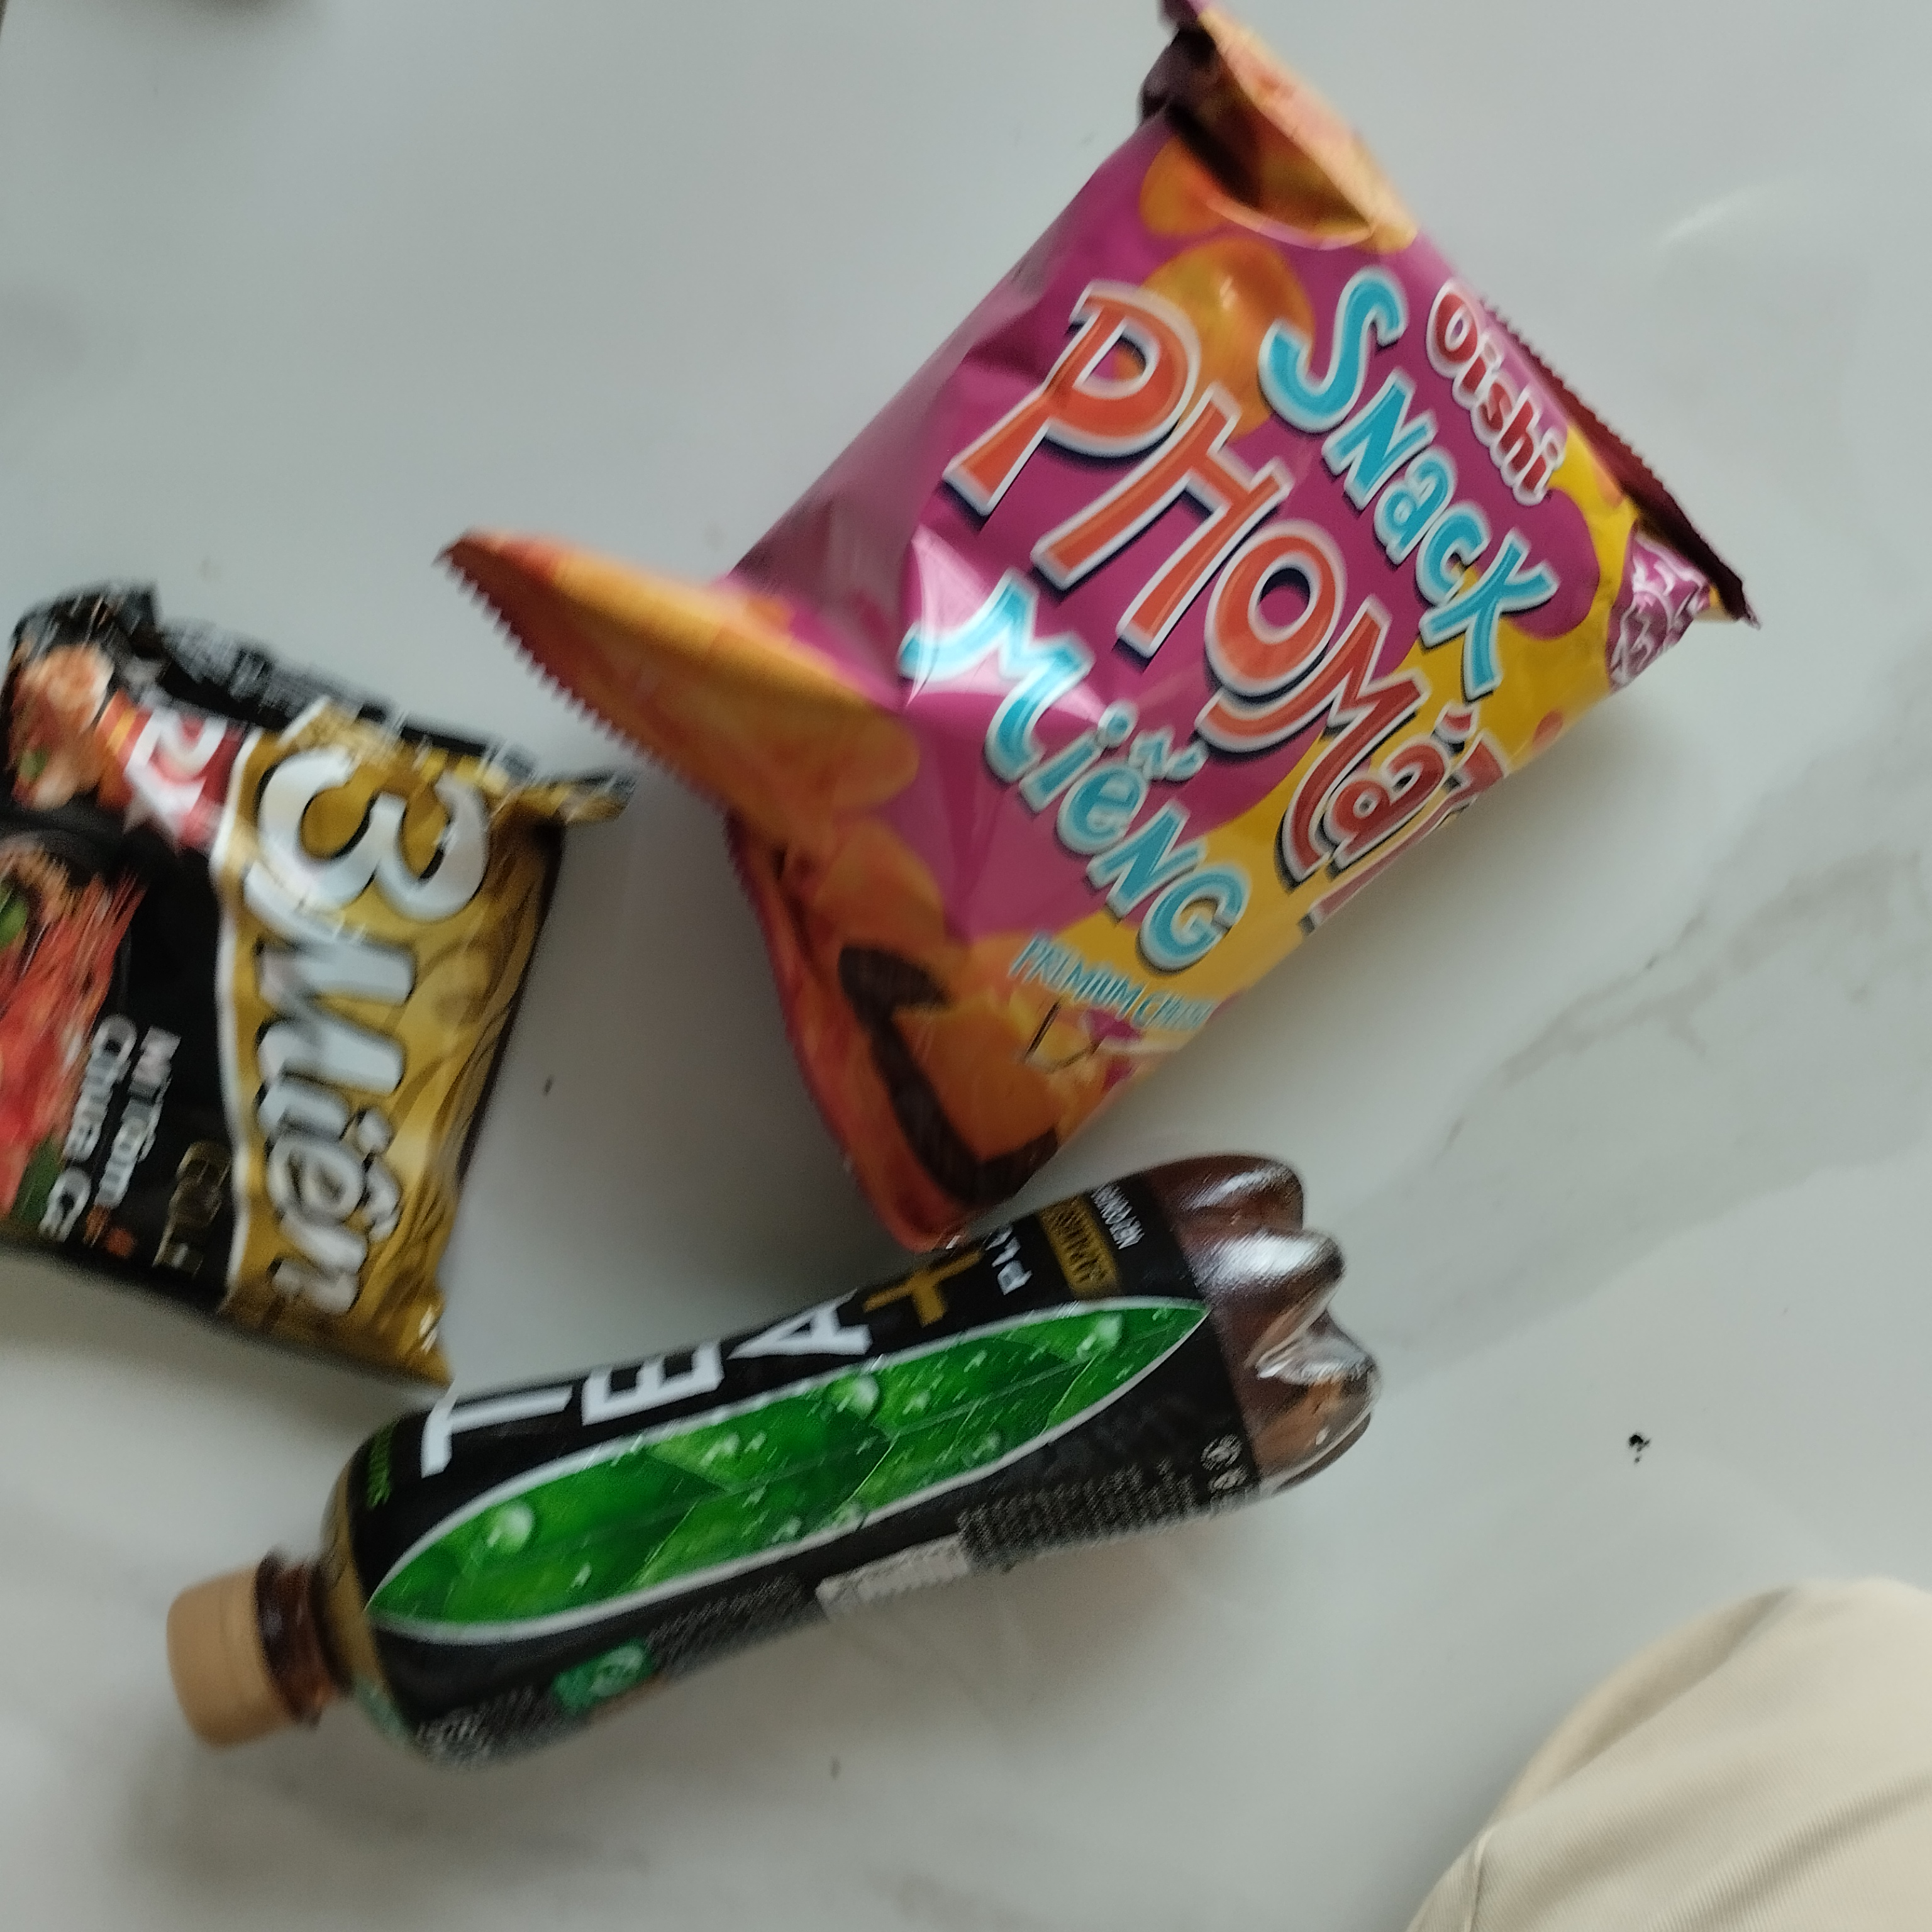3mien: (7, 564, 665, 1389)
Oishi_phomat: (426, 7, 1775, 1274)
Olong: (136, 1131, 1382, 1783)
